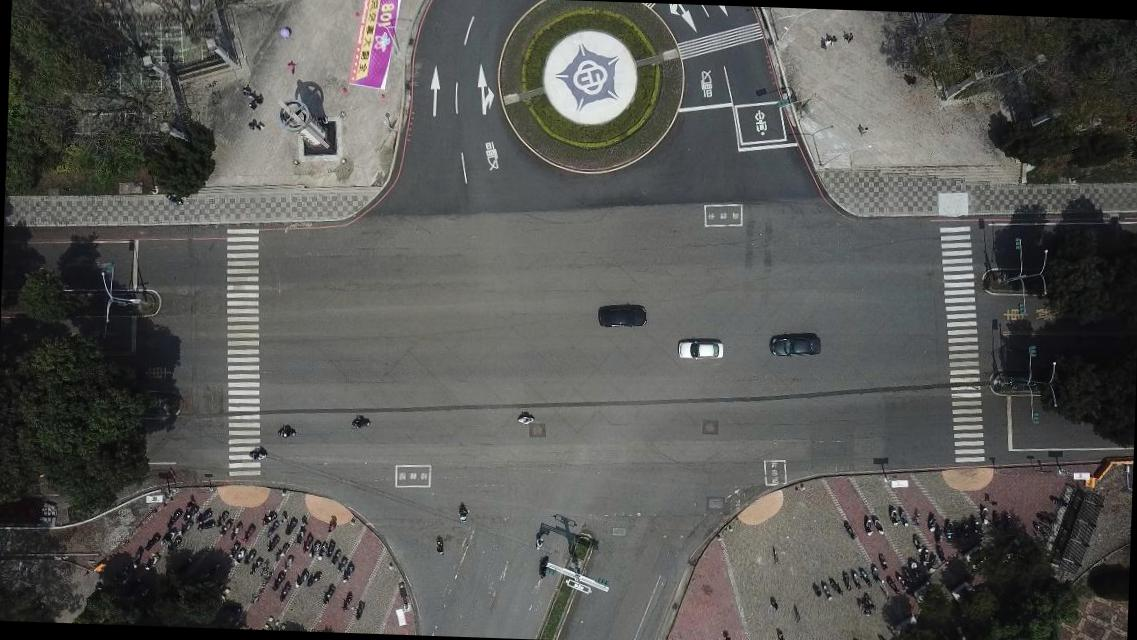vehicle: (596, 304, 648, 327), (768, 335, 820, 357), (676, 340, 724, 360)
